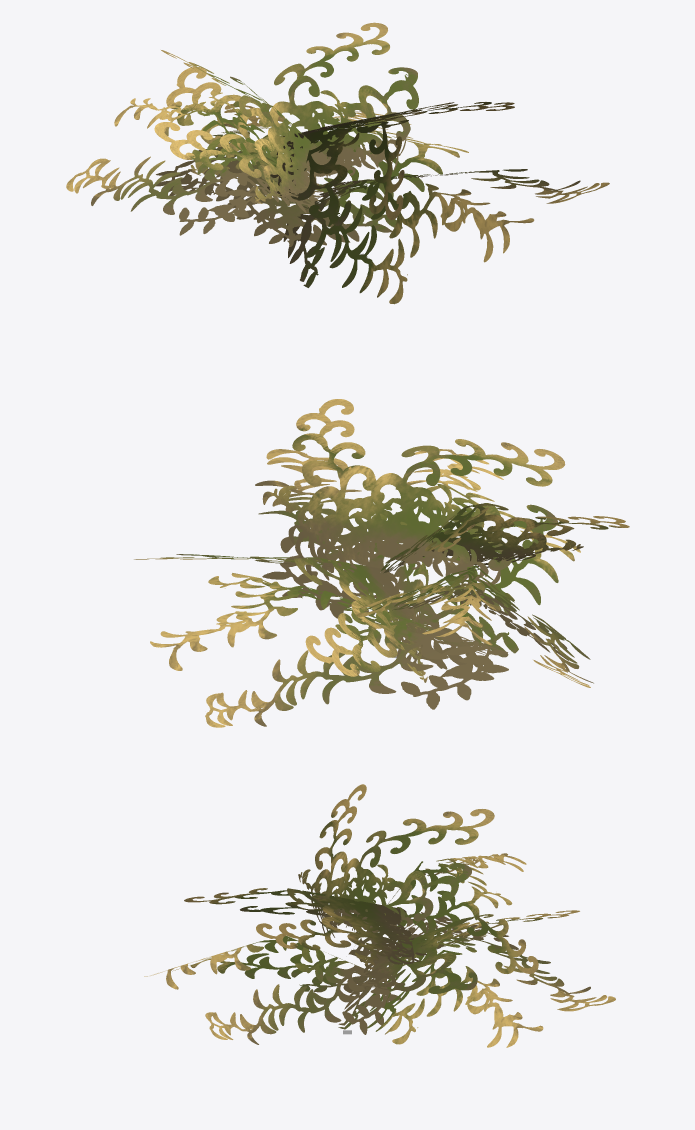
The model's file is CurlyPlant.fbx.
The picture shows the model from 3 angles, top to bottom: view 1: azimuth 30°, elevation 25°; view 2: azimuth 150°, elevation 25°; view 3: azimuth 270°, elevation 25°; orthographic projection. The views are drawn at different scales.
Visible parts, largest first — view 1: CurlyPlant; view 2: CurlyPlant; view 3: CurlyPlant.
Boxes of the visible parts, left/top/right/bottom form: CurlyPlant: left=66, top=22, right=609, bottom=304; CurlyPlant: left=134, top=399, right=629, bottom=727; CurlyPlant: left=144, top=784, right=615, bottom=1047.
Bounding box in the file's own units: 136 × 46.83 × 155.
